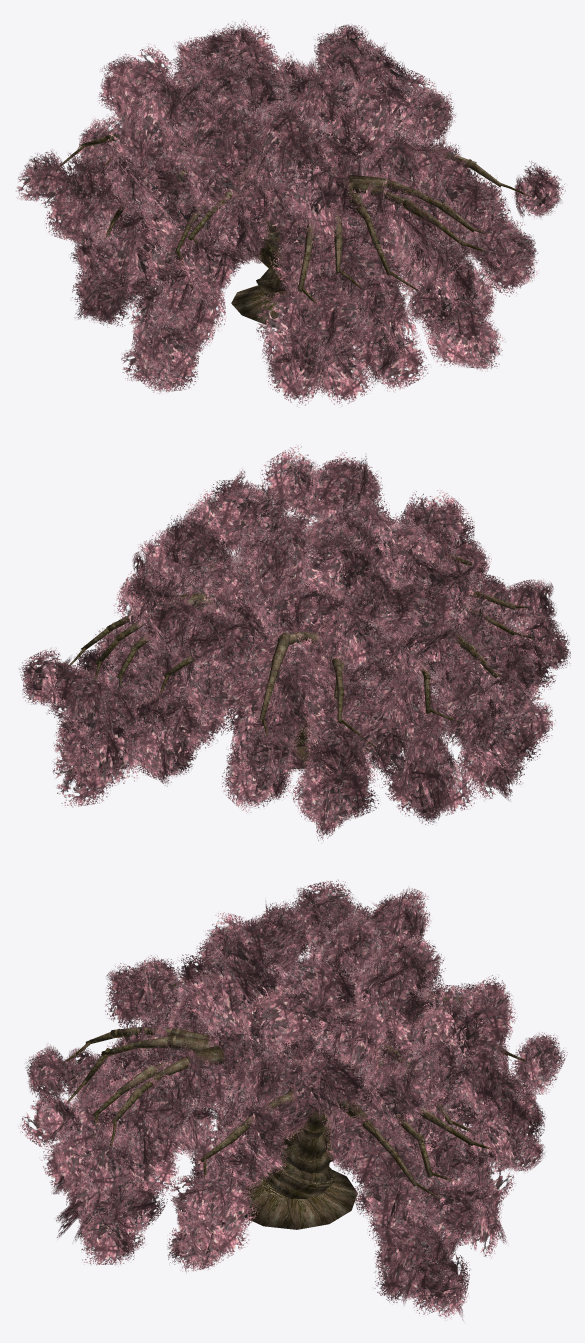
File: blossom_9.glb
3 renders of one model, top to bottom at view 1: azimuth 30°, elevation 25°; view 2: azimuth 150°, elevation 25°; view 3: azimuth 270°, elevation 25°, orthographic. The views are drawn at different scales.
Parts seen in each view (by area): view 1: blossom; view 2: blossom; view 3: blossom.
Boxes of the visible parts, x1,y1,x2,y2 form: blossom: (16,19,565,407); blossom: (18,444,570,843); blossom: (18,879,567,1320).
Bounding box in the file's own units: 22.84 × 15.93 × 24.6.
2 materials, 2 textured.
